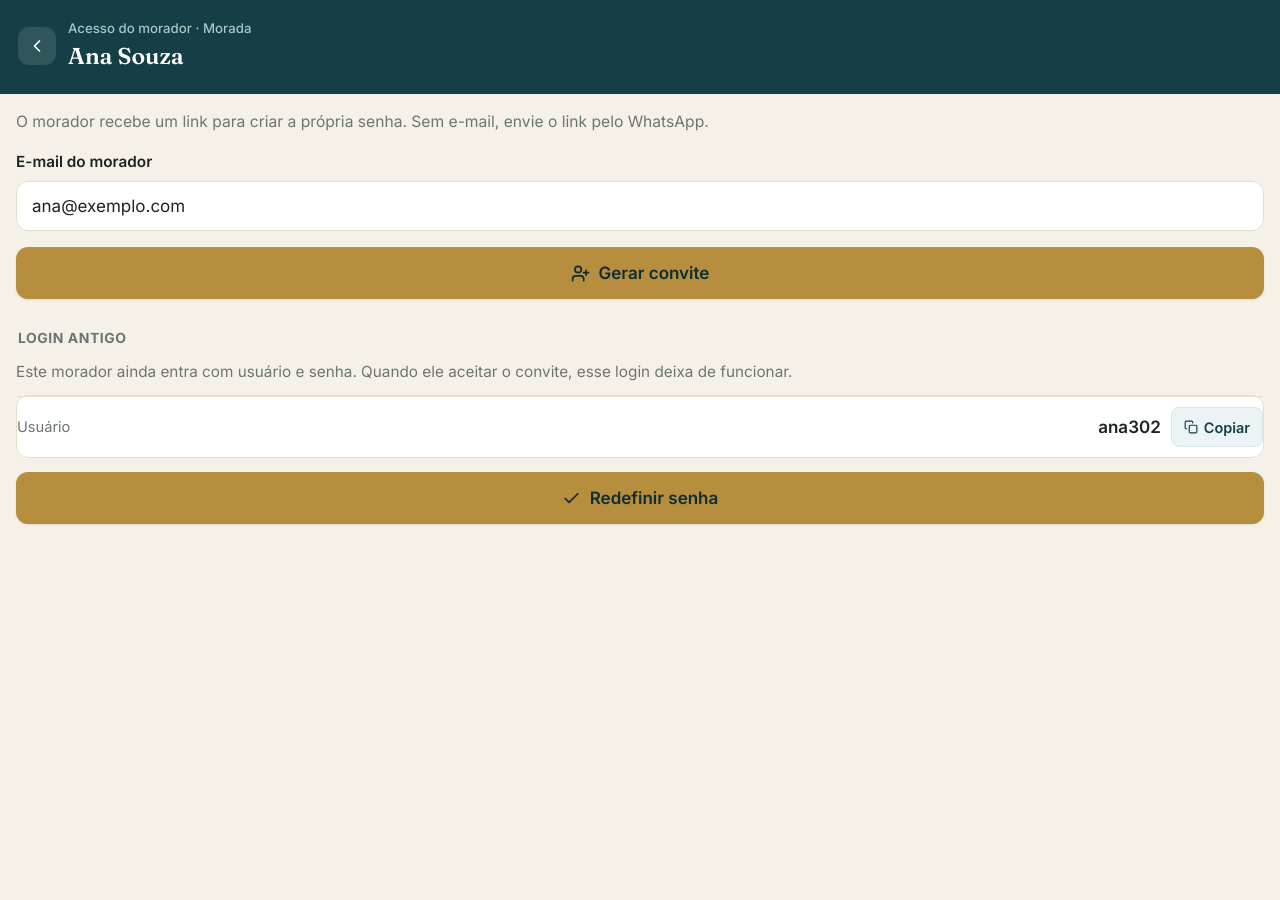
Test: ResidentAccessScreen › a legacy login is shown with the password reset
The width and height of the screenshot is (1280, 900).
Expected: the text with test id "login-username" reads "ana302", [1098,417,1161,437]
Click the button "Redefinir senha".
click(640, 498)  # box [16,472,1264,524]
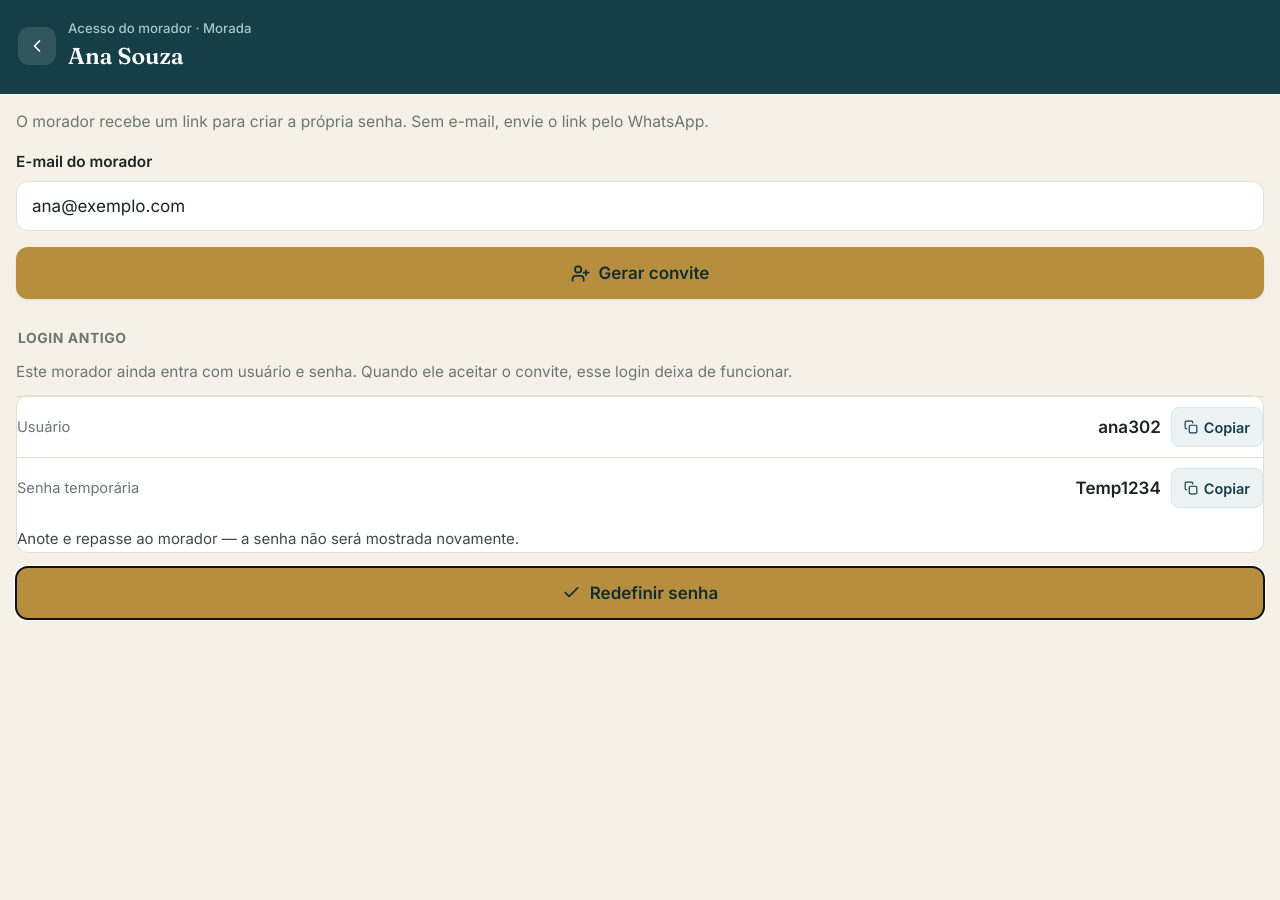
Expected: the text with test id "temp-password" reads "Temp1234", [1076,478,1161,498]
